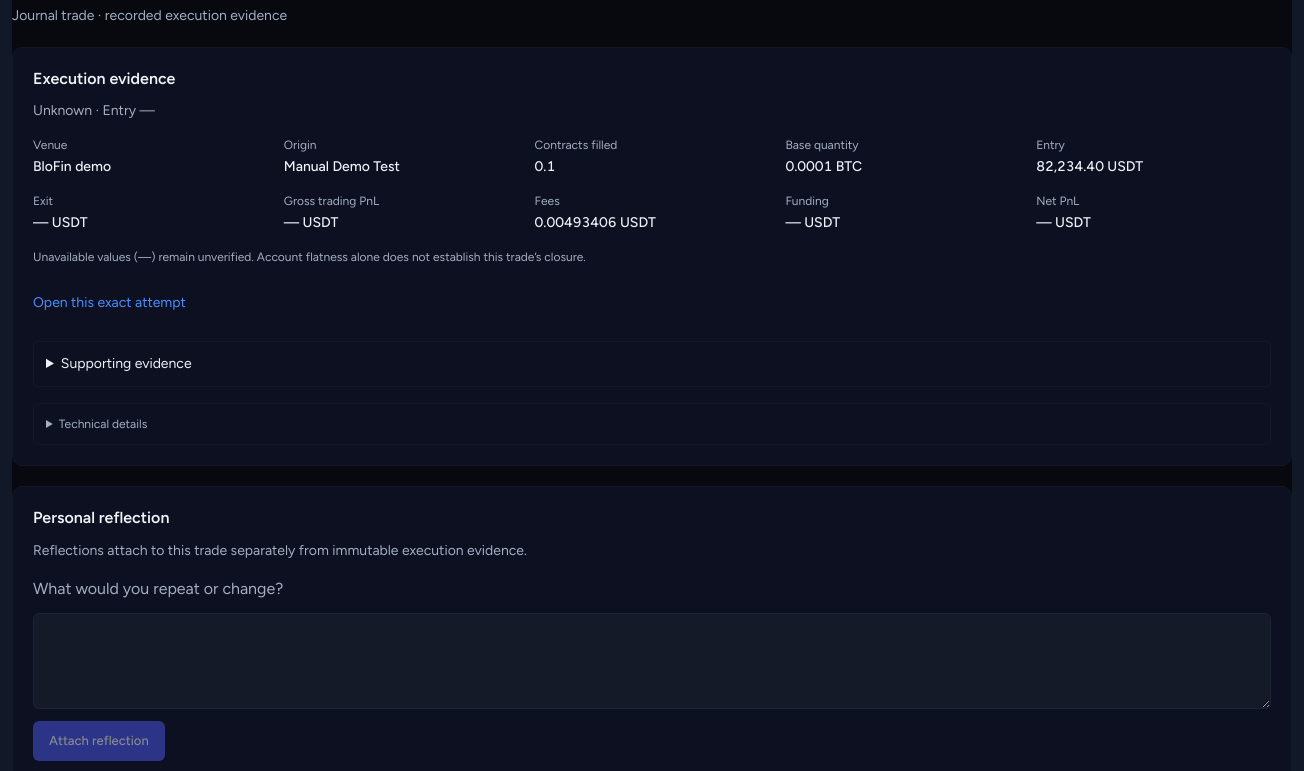
Test case: attaches a personal reflection through observations without editing execution evidence
In the text box labelled "What would you repeat or change?": (652, 661) [33,613,1271,709], type " Keep the stop "
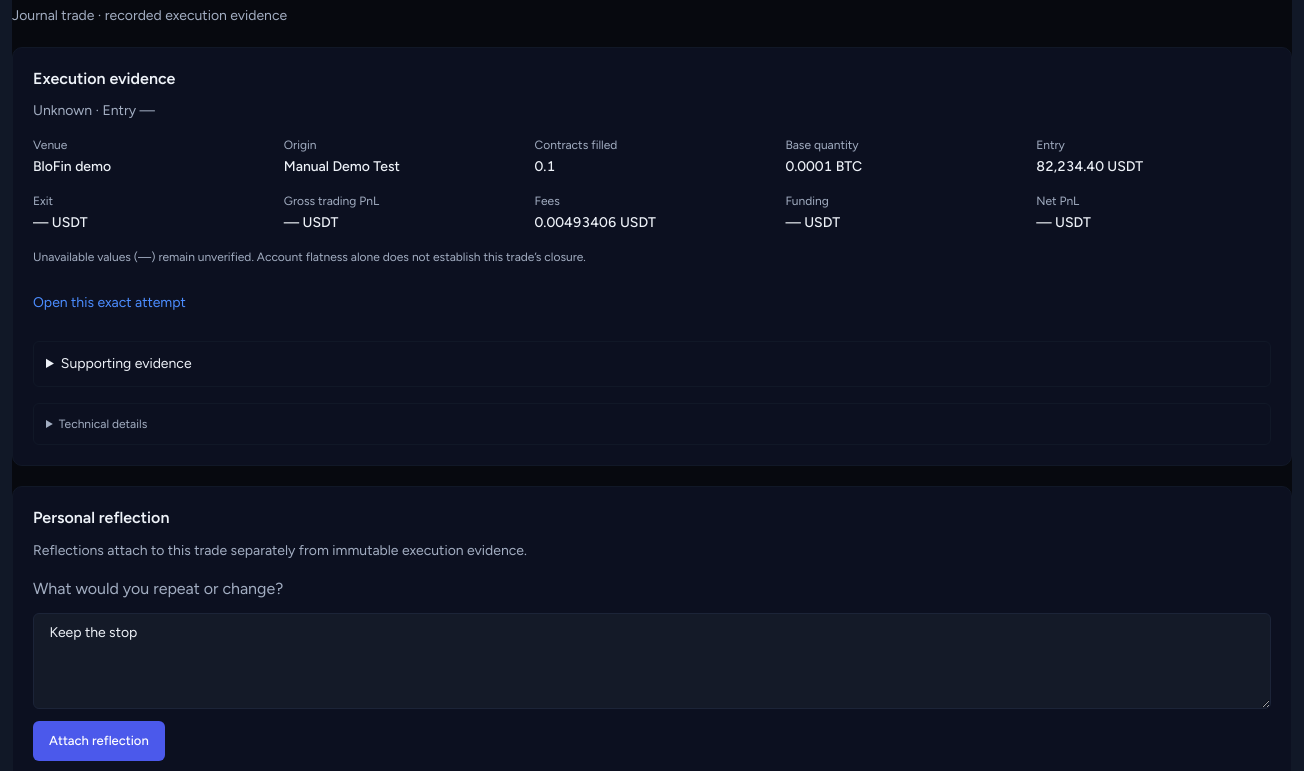
Click the button "Attach reflection": (99, 741) [33,721,165,761]
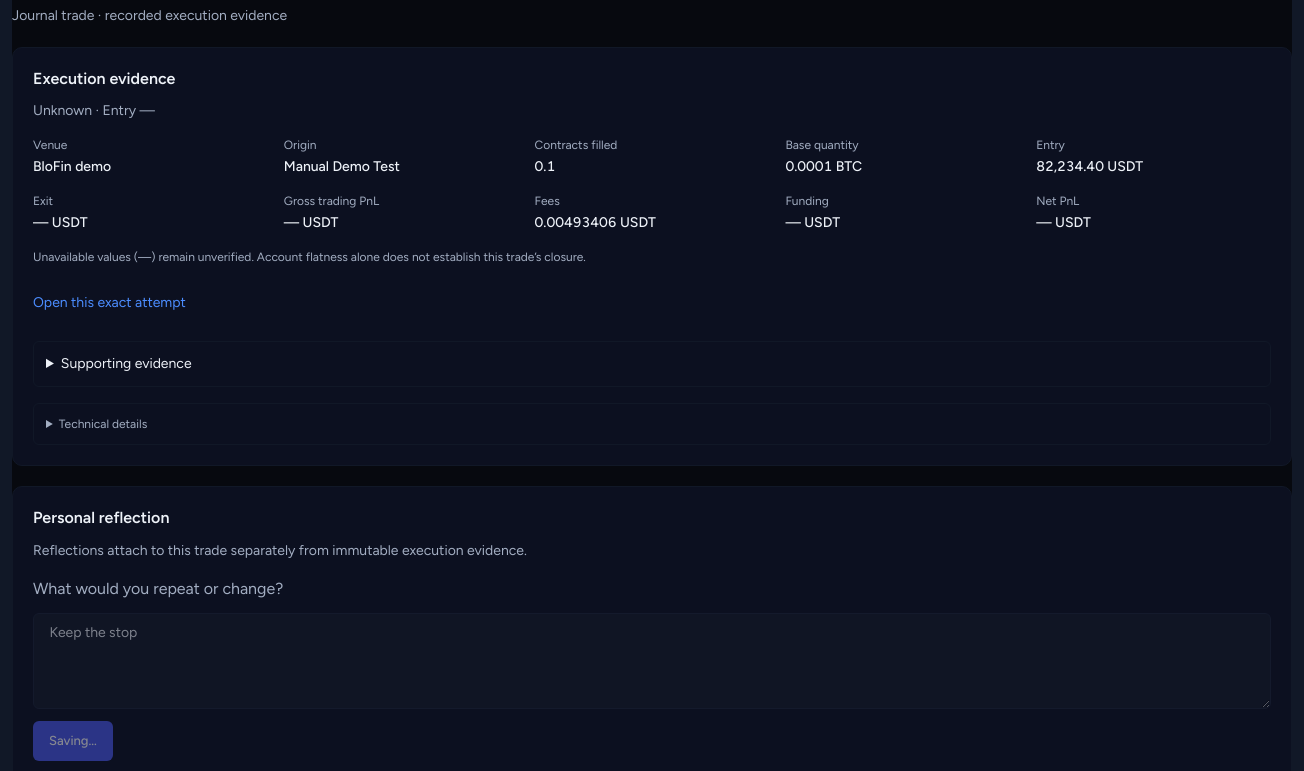
Click the button named "Attach reflection": (73, 741) [33,721,113,761]
(page scrolled)
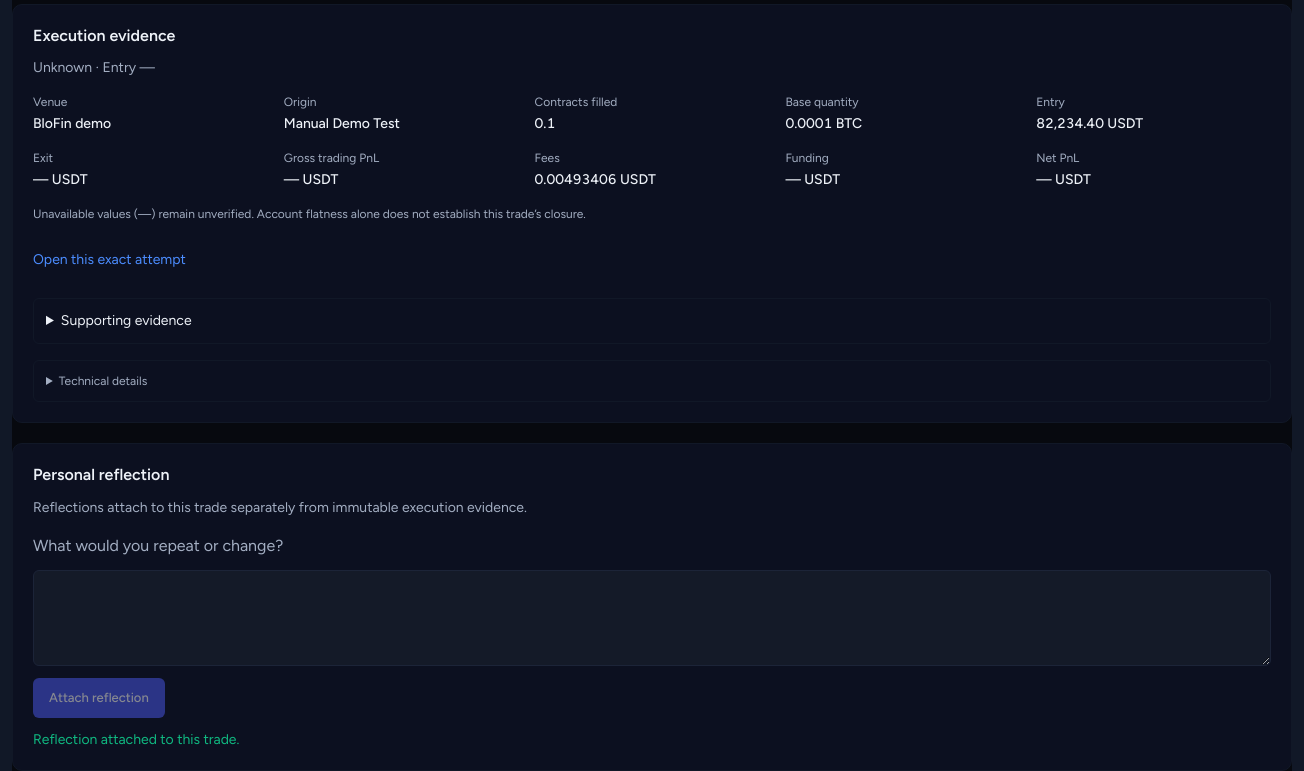
expect the button "Attach reflection" is disabled: met, box [33,678,165,718]
expect the text "Reflection attached to this trade." is shown: met, box [33,731,239,748]
